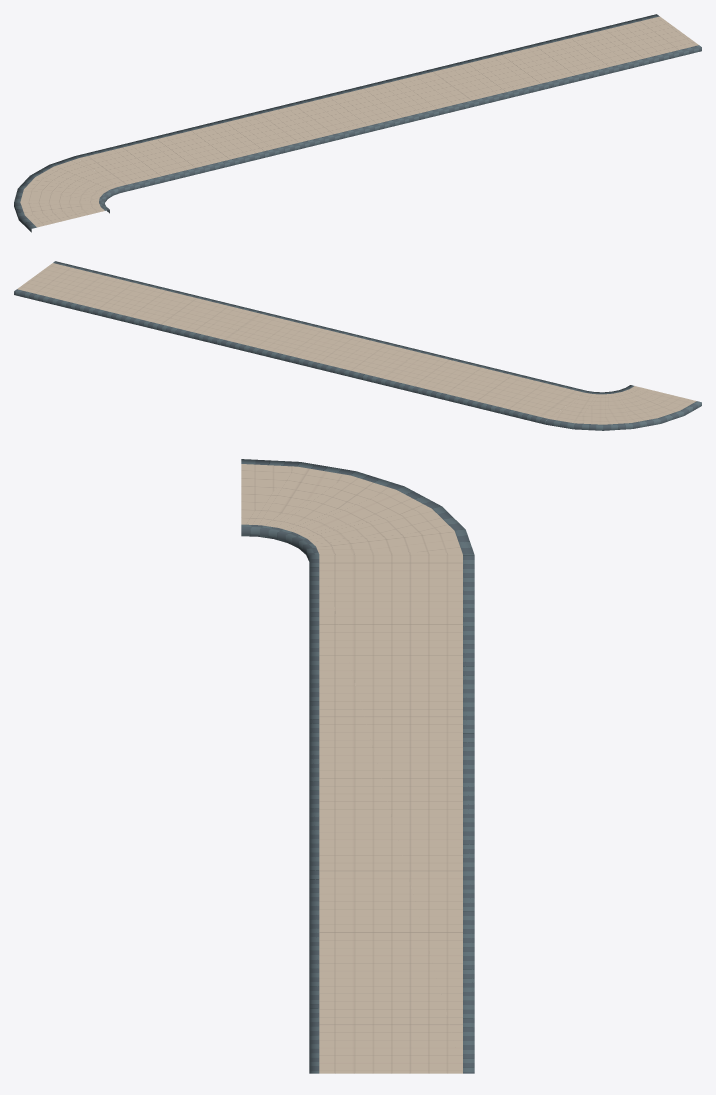
Rendered from Trotoar.fbx.
3 views of the same model, one above another, from view 1: azimuth 30°, elevation 25°; view 2: azimuth 150°, elevation 25°; view 3: azimuth 270°, elevation 25° (orthographic). The views are drawn at different scales.
Visible parts, largest first — view 1: Plane.025, Plane.026; view 2: Plane.025, Plane.026; view 3: Plane.025, Plane.026.
Boxes of the visible parts, x1,y1,x2,y2 form: Plane.025: [75, 14, 701, 192]; Plane.026: [14, 156, 120, 232]; Plane.025: [14, 261, 586, 424]; Plane.026: [545, 385, 701, 430]; Plane.025: [309, 554, 474, 1073]; Plane.026: [241, 459, 474, 561].
Size of the model in its own units: 5811 by 32.46 by 932.
